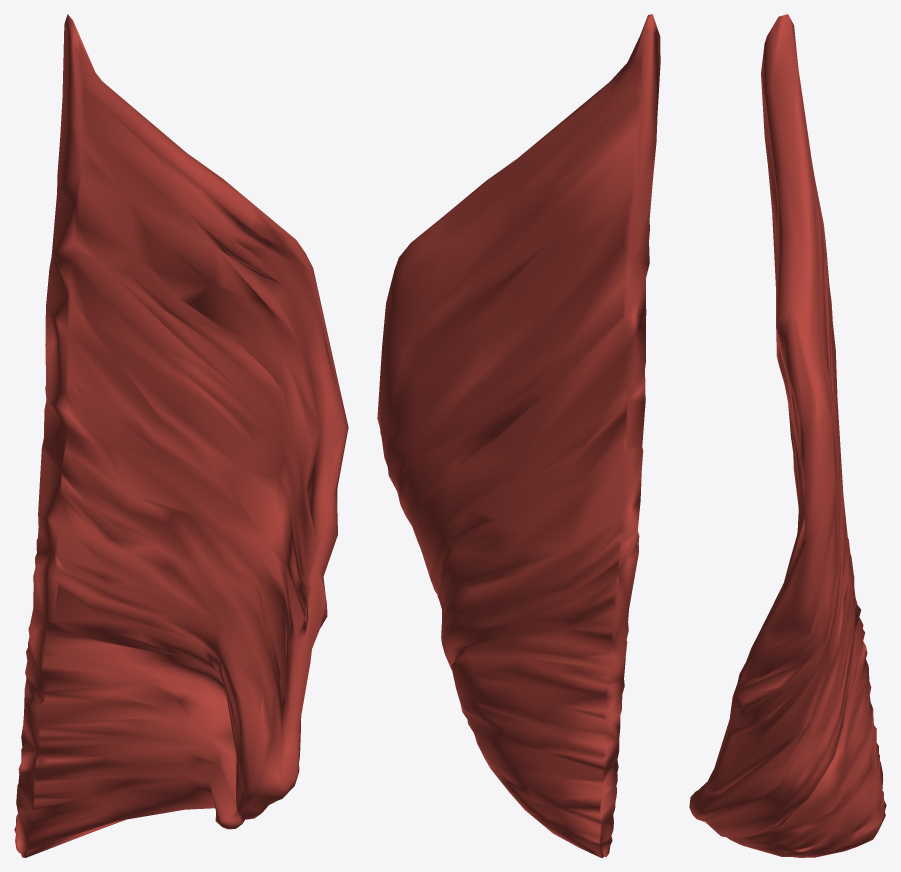
File: musculos-inferior-pharyngeal-constrictor-l.glb
The picture shows the model from 3 angles, left to right: view 1: azimuth 30°, elevation 25°; view 2: azimuth 150°, elevation 25°; view 3: azimuth 270°, elevation 25°; orthographic projection. The views are drawn at different scales.
Visible parts, largest first — view 1: Inferior pharyngeal constrictor.l; view 2: Inferior pharyngeal constrictor.l; view 3: Inferior pharyngeal constrictor.l.
Part boxes in pixels (x1,y1,x2,y2): Inferior pharyngeal constrictor.l: (14,14,348,857); Inferior pharyngeal constrictor.l: (377,14,660,857); Inferior pharyngeal constrictor.l: (689,14,886,857).
Size of the model in its own units: 0.022 by 0.0651 by 0.0143.
